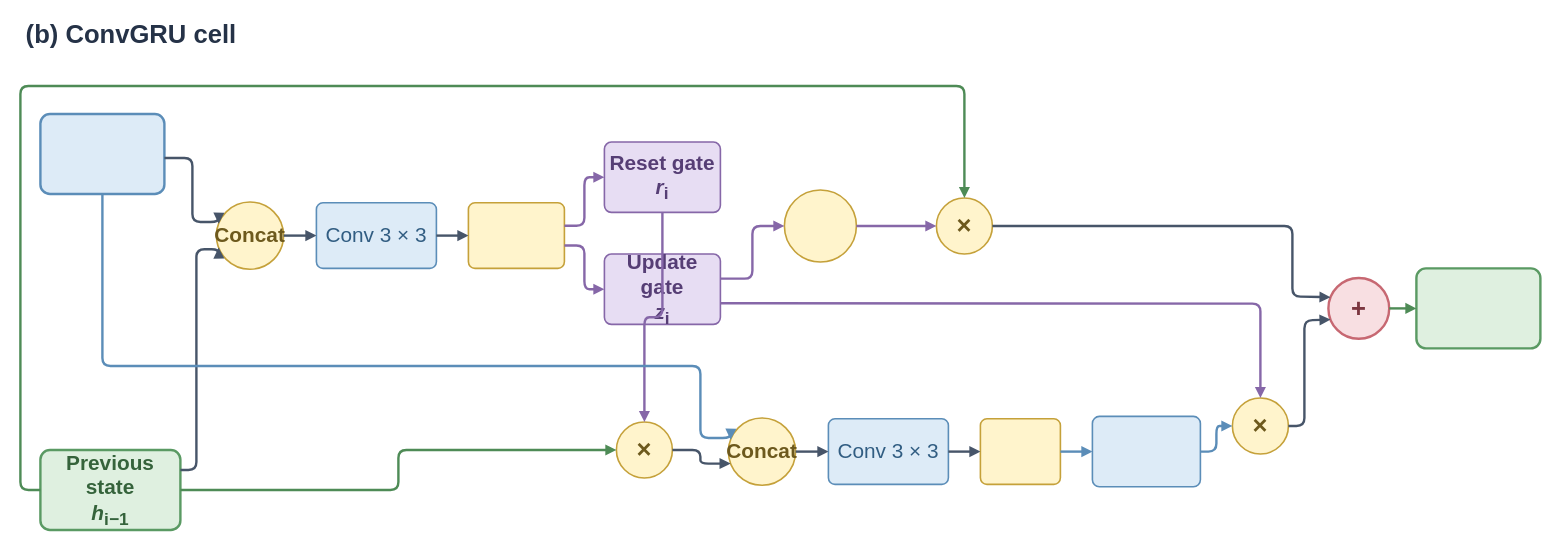
This 1555x545 diagram has some shape labels left out. Here are the shapes that lost their labels. From the top down, the box of each, then its label:
(39, 112, 165, 195): Fused input f i
(467, 202, 565, 269): Sigmoid
(783, 189, 857, 262): 1 − z i
(1415, 267, 1541, 349): Updated state h i
(979, 418, 1061, 485): Tanh
(1091, 415, 1201, 487): Candidate h̃ i
